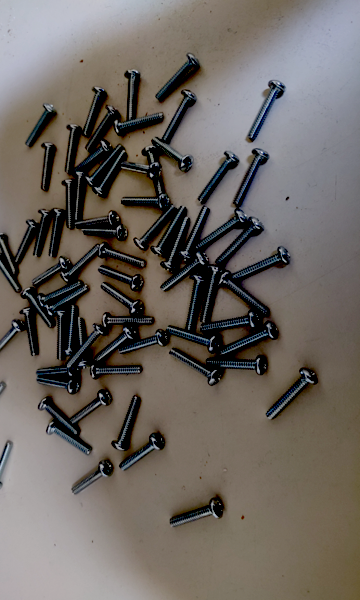longscrew: (271, 367, 316, 423), (195, 149, 240, 203), (218, 217, 262, 268), (246, 81, 284, 138), (217, 275, 270, 315), (156, 92, 198, 142), (231, 151, 268, 206), (198, 210, 246, 252), (159, 250, 208, 291), (222, 324, 279, 359), (233, 250, 290, 285), (151, 58, 201, 96), (169, 350, 220, 385), (136, 204, 176, 247), (93, 151, 126, 202), (201, 311, 257, 341), (66, 326, 104, 370), (180, 206, 209, 262), (151, 134, 193, 172), (155, 205, 186, 256), (63, 244, 101, 285), (169, 323, 219, 354), (180, 274, 207, 331), (172, 501, 223, 531), (47, 422, 92, 456), (38, 398, 78, 436), (22, 102, 56, 146), (122, 436, 164, 471), (112, 396, 140, 448), (88, 144, 122, 186), (96, 327, 135, 363), (83, 107, 117, 148), (72, 391, 110, 427), (102, 284, 143, 317), (144, 143, 166, 204), (101, 263, 141, 296), (69, 142, 109, 175), (46, 286, 87, 318), (166, 216, 189, 273), (198, 267, 222, 321), (23, 289, 55, 329), (74, 463, 111, 497), (115, 110, 163, 136), (122, 330, 165, 357), (40, 281, 81, 309), (100, 244, 146, 267), (204, 357, 266, 374), (31, 259, 68, 287), (81, 86, 103, 133), (13, 220, 36, 264), (47, 208, 66, 258), (31, 207, 50, 255), (0, 320, 24, 356), (73, 212, 121, 230), (62, 303, 78, 356), (38, 143, 56, 190), (63, 123, 79, 174), (22, 307, 38, 356), (91, 363, 142, 378), (118, 163, 168, 178), (72, 170, 86, 221), (0, 255, 18, 294), (102, 317, 154, 330), (0, 236, 17, 272), (54, 308, 66, 359), (37, 363, 77, 378), (82, 227, 131, 239), (122, 196, 173, 207), (38, 378, 78, 392), (0, 444, 11, 491), (75, 316, 84, 369), (65, 178, 74, 229), (0, 383, 4, 422)
